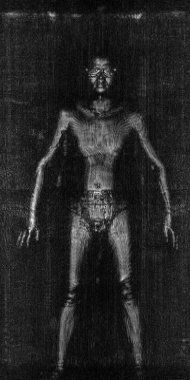gun: (37, 121, 57, 151)
